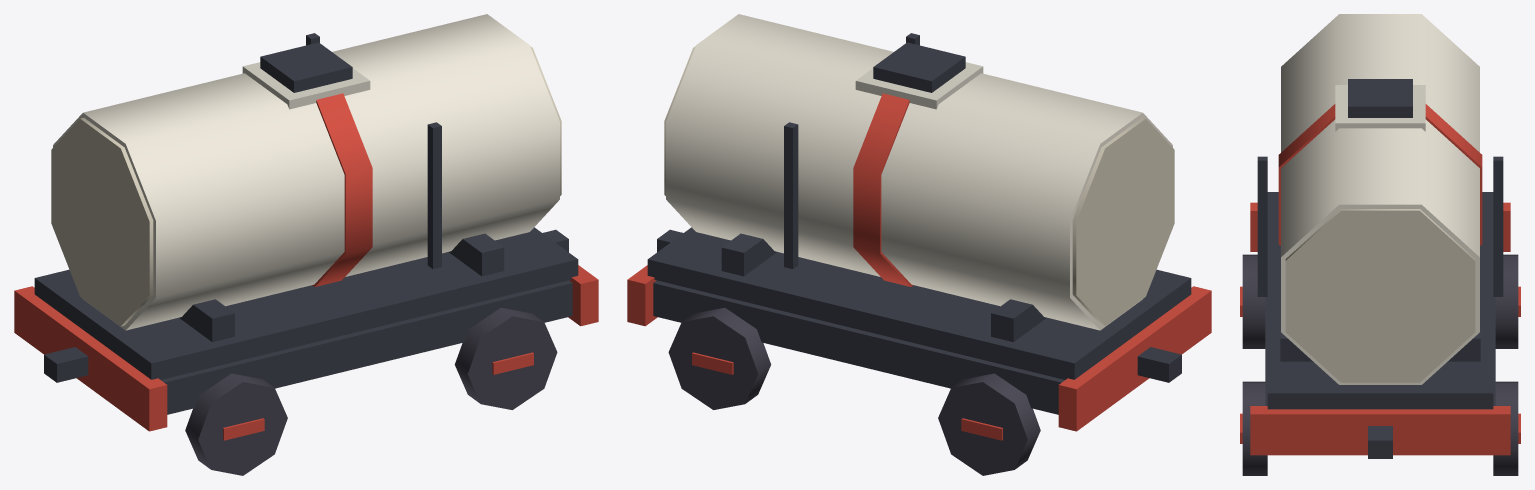
Rendered from car_06.glb.
3 renders of one model, left to right at view 1: azimuth 30°, elevation 25°; view 2: azimuth 150°, elevation 25°; view 3: azimuth 270°, elevation 25°, orthographic. The views are drawn at different scales.
Parts seen in each view (by area): view 1: car_06, Wheel1, Wheel3; view 2: car_06, Wheel0, Wheel2; view 3: car_06, Wheel0, Wheel1, Wheel2, Wheel3.
Boxes of the visible parts, x1,y1,x2,y2 form: car_06: (14, 14, 598, 431); Wheel1: (185, 373, 287, 475); Wheel3: (454, 307, 557, 409); car_06: (627, 14, 1211, 431); Wheel0: (938, 373, 1040, 475); Wheel2: (668, 307, 771, 409); car_06: (1250, 14, 1510, 458); Wheel0: (1495, 254, 1520, 348); Wheel1: (1240, 254, 1265, 348); Wheel2: (1493, 381, 1520, 475); Wheel3: (1240, 381, 1267, 475).
Size of the model in its own units: 2.28 by 1.4 by 1.12.
